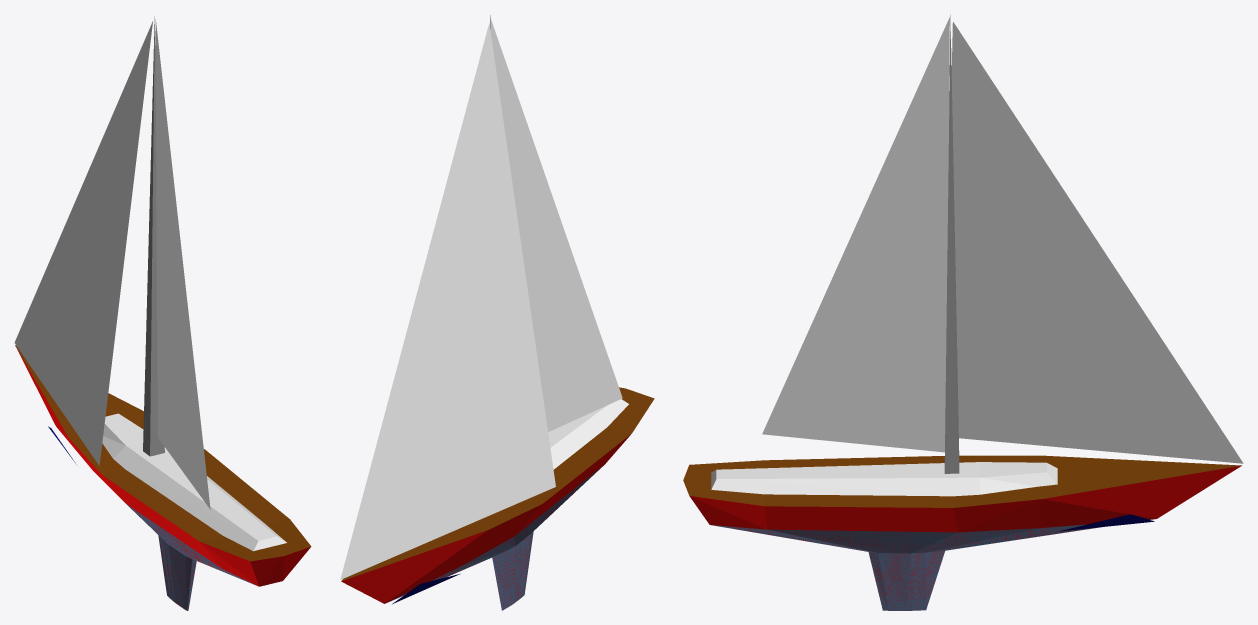
The model's file is sail01.dae.
3 renders of one model, left to right at view 1: azimuth 30°, elevation 25°; view 2: azimuth 150°, elevation 25°; view 3: azimuth 270°, elevation 25°, orthographic. The views are drawn at different scales.
Parts seen in each view (by area): view 1: o11 (×2), o13 (×2), SketchUp, o12, o10_1; view 2: o11 (×2), o13 (×2), SketchUp, o10_1; view 3: o11 (×2), o13 (×2), SketchUp, o10_1, o12.
Part boxes in pixels (x1=…): o11 (×2): x1=14, y1=19, x2=210, y2=509; o13 (×2): x1=15, y1=345, x2=311, y2=561; SketchUp: x1=15, y1=346, x2=310, y2=586; o12: x1=143, y1=16, x2=164, y2=456; o10_1: x1=126, y1=504, x2=256, y2=610; o11 (×2): x1=340, y1=18, x2=622, y2=579; o13 (×2): x1=341, y1=387, x2=654, y2=581; SketchUp: x1=341, y1=434, x2=630, y2=603; o10_1: x1=387, y1=465, x2=603, y2=610; o11 (×2): x1=762, y1=17, x2=1243, y2=463; o13 (×2): x1=683, y1=455, x2=1241, y2=507; SketchUp: x1=689, y1=465, x2=1241, y2=532; o10_1: x1=711, y1=519, x2=1155, y2=610; o12: x1=944, y1=15, x2=959, y2=473.
Size of the model in its own units: 92.19 by 388 by 455.
